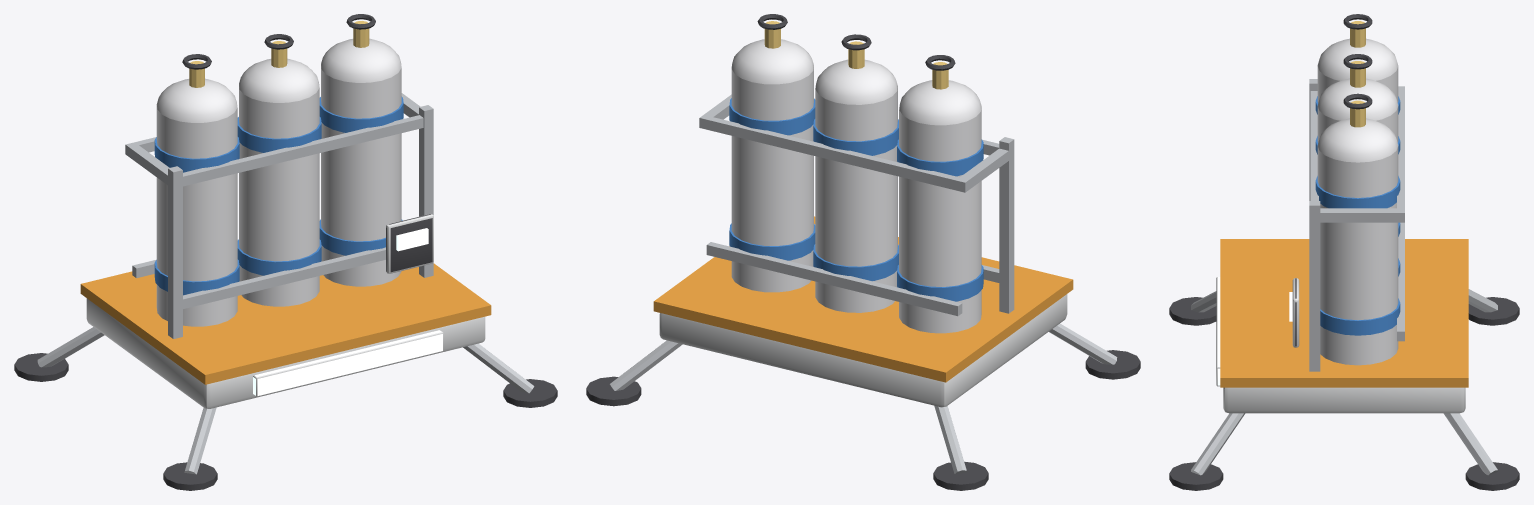
The model's file is OxygenCache.fbx.
The picture shows the model from 3 angles, left to right: view 1: azimuth 30°, elevation 25°; view 2: azimuth 150°, elevation 25°; view 3: azimuth 270°, elevation 25°; orthographic projection. The views are drawn at different scales.
Parts seen in each view (by area): view 1: OxygenCache; view 2: OxygenCache; view 3: OxygenCache.
Boxes of the visible parts, left/top/right/bottom form: OxygenCache: left=14, top=14, right=557, bottom=490; OxygenCache: left=586, top=14, right=1140, bottom=490; OxygenCache: left=1169, top=14, right=1519, bottom=490.
Size of the model in its own units: 3.3 by 2.76 by 2.6.
